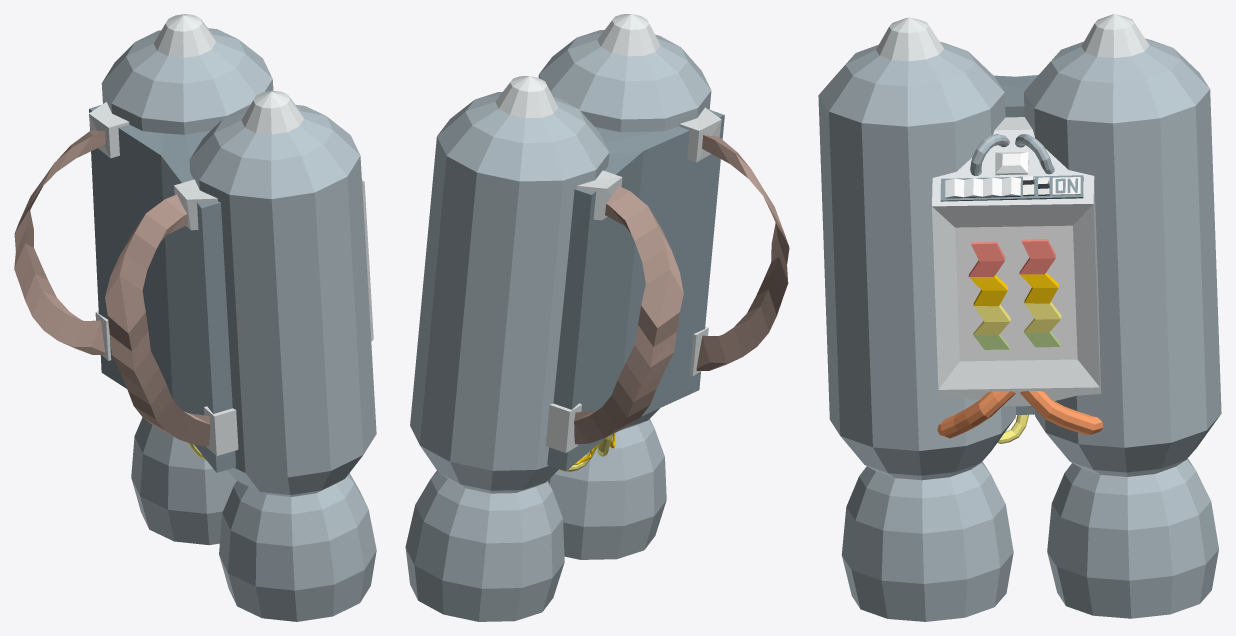
Rendered from jetpack#0002.fbx.
3 views of the same model, side by side, from view 1: azimuth 30°, elevation 25°; view 2: azimuth 150°, elevation 25°; view 3: azimuth 270°, elevation 25° (orthographic). The views are drawn at different scales.
Parts seen in each view (by area): view 1: group985480063; view 2: group985480063; view 3: group985480063.
Boxes of the visible parts, x1,y1,x2,y2 form: group985480063: (14, 14, 376, 621); group985480063: (405, 14, 789, 621); group985480063: (818, 14, 1221, 621).
Bounding box in the file's own units: 197 × 351 × 225.
